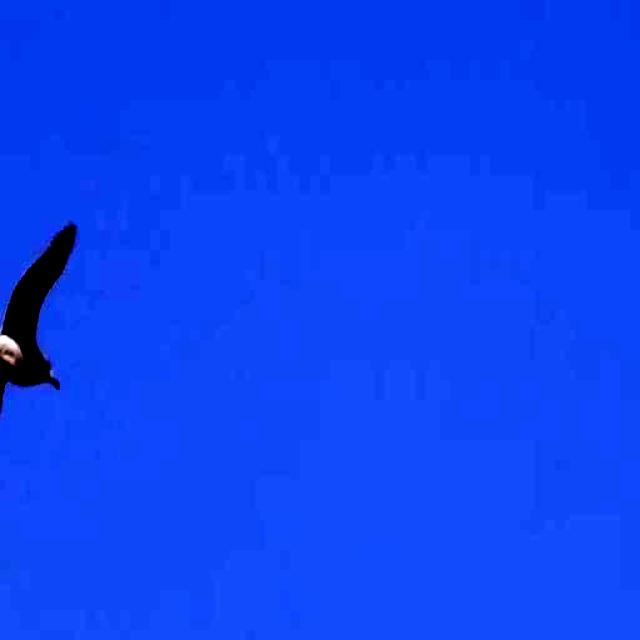airplane: (0, 220, 96, 555)
